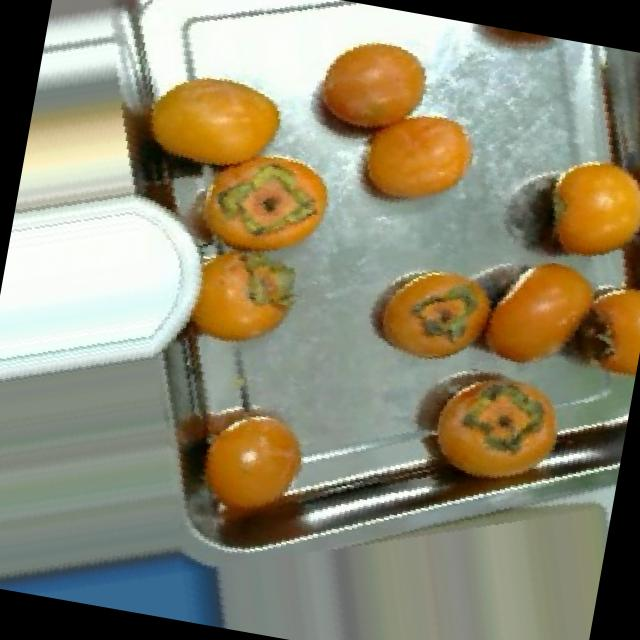Fruit: (133, 362, 348, 583), (370, 328, 594, 526), (115, 40, 312, 203), (284, 11, 454, 167), (455, 232, 611, 392), (332, 86, 496, 230), (346, 246, 498, 384), (514, 130, 640, 284), (446, 18, 578, 72)
